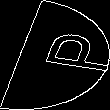P_W: (8, 31, 102, 79)
